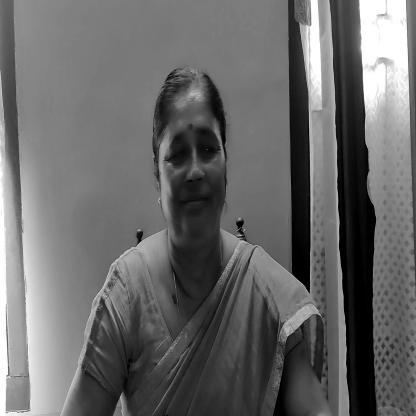Normal: (158, 69, 230, 244)
